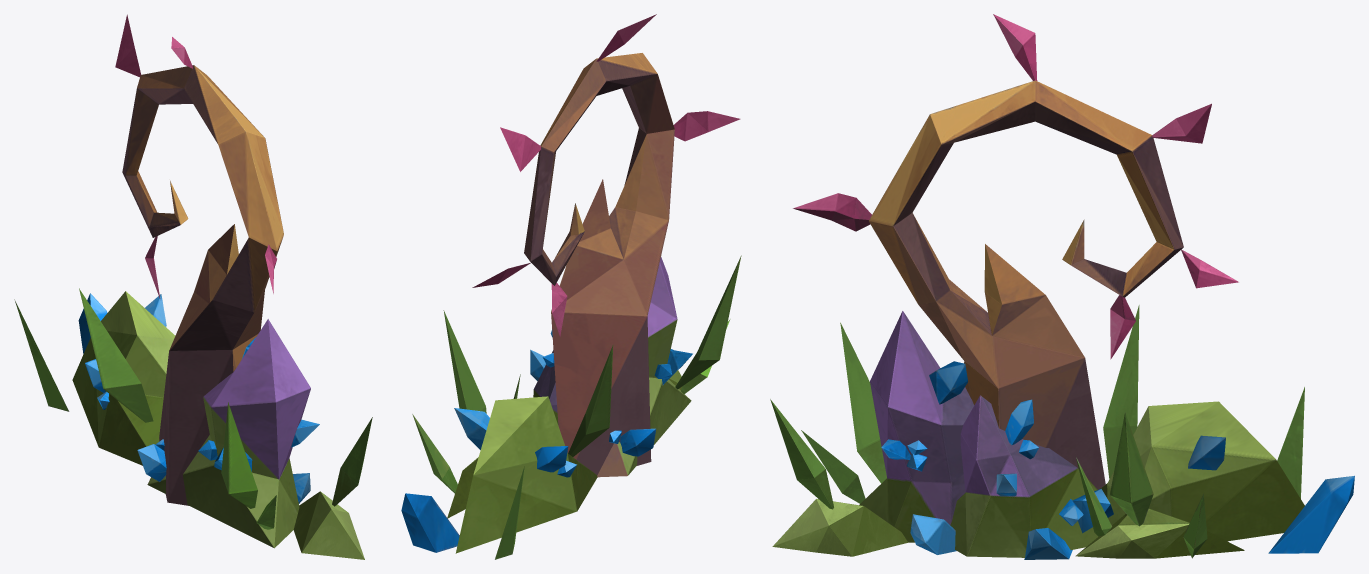
Rendered from tree.fbx.
3 views of the same model, side by side, from view 1: azimuth 30°, elevation 25°; view 2: azimuth 150°, elevation 25°; view 3: azimuth 270°, elevation 25° (orthographic). The views are drawn at different scales.
Visible parts, largest first — view 1: tree_branch1, tree_rock1, tree_rock4, tree_rock5, grass_blade7, grass_blade5, grass_blade1, grass_blade14, tree_leaf4, pCube68, pCube67; view 2: tree_branch1, tree_rock4, tree_rock1, pCube67, grass_blade5, grass_blade7, grass_blade2, tree_leaf2, grass_blade4, tree_leaf4, grass_blade14, pCube66 (+6 smaller); view 3: tree_branch1, tree_rock4, tree_rock1, tree_rock2, tree_rock5, tree_rock3, pCube67, grass_blade5, grass_blade7, grass_blade2, grass_blade1, tree_leaf2 (+13 smaller).
Boxes of the visible parts, <box> form: tree_branch1: <box>122,65,283,505</box>; tree_rock1: <box>147,319,310,548</box>; tree_rock4: <box>72,291,175,465</box>; tree_rock5: <box>293,491,364,559</box>; grass_blade7: <box>79,288,153,422</box>; grass_blade5: <box>221,402,257,508</box>; grass_blade1: <box>332,417,372,506</box>; grass_blade14: <box>14,299,69,411</box>; tree_leaf4: <box>115,14,141,77</box>; pCube68: <box>137,444,166,481</box>; pCube67: <box>78,293,107,353</box>; tree_branch1: <box>524,53,674,475</box>; tree_rock4: <box>455,396,597,553</box>; tree_rock1: <box>597,257,691,477</box>; pCube67: <box>401,493,459,552</box>; grass_blade5: <box>675,255,741,389</box>; grass_blade7: <box>568,345,613,456</box>; grass_blade2: <box>443,310,486,413</box>; tree_leaf2: <box>673,111,740,141</box>; grass_blade4: <box>412,414,457,493</box>; tree_leaf4: <box>500,127,540,171</box>; grass_blade14: <box>495,466,524,559</box>; pCube66: <box>454,408,489,449</box>; tree_branch1: <box>869,80,1183,489</box>; tree_rock4: <box>1100,401,1304,541</box>; tree_rock1: <box>859,311,974,542</box>; tree_rock2: <box>950,395,1098,557</box>; tree_rock5: <box>772,499,907,556</box>; tree_rock3: <box>1075,508,1244,558</box>; pCube67: <box>1268,475,1354,553</box>; grass_blade5: <box>840,322,886,483</box>; grass_blade7: <box>1103,305,1139,478</box>; grass_blade2: <box>1110,412,1153,526</box>; grass_blade1: <box>770,399,833,509</box>; tree_leaf2: <box>793,193,871,231</box>.
Size of the model in its own units: 1.62 by 3.94 by 4.24.
